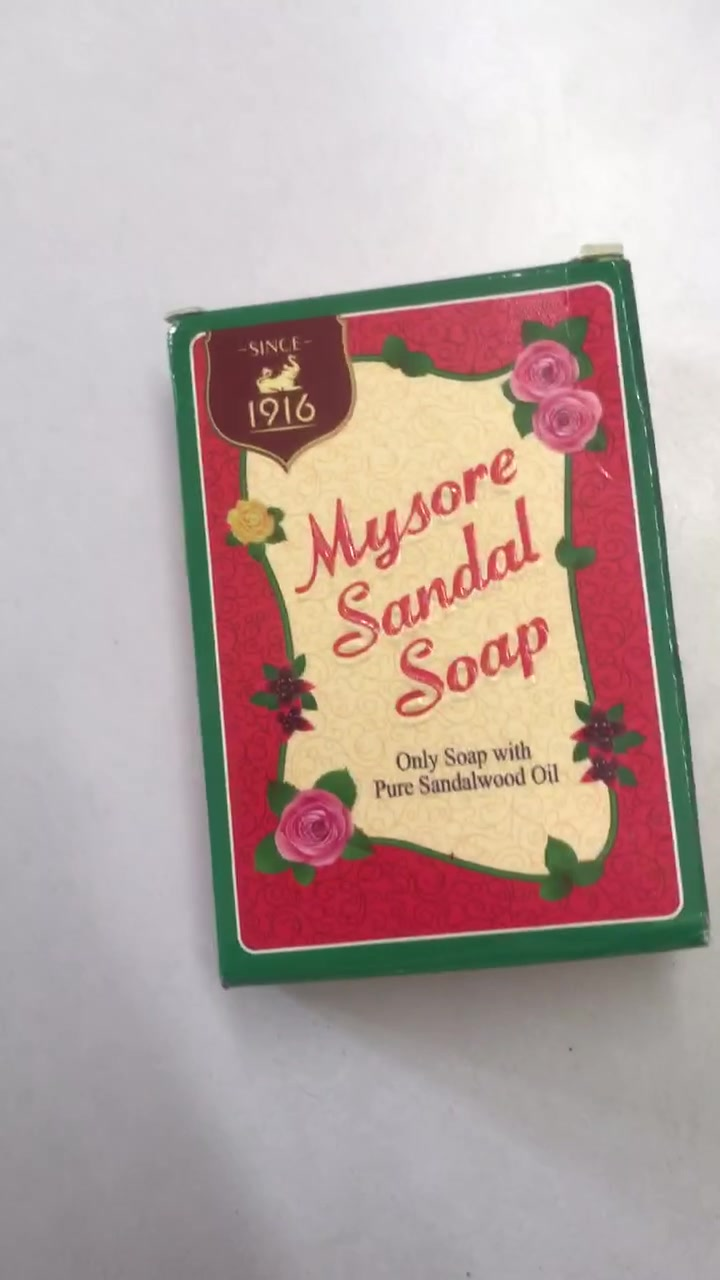mysore sandal soap: (173, 259, 720, 985)
